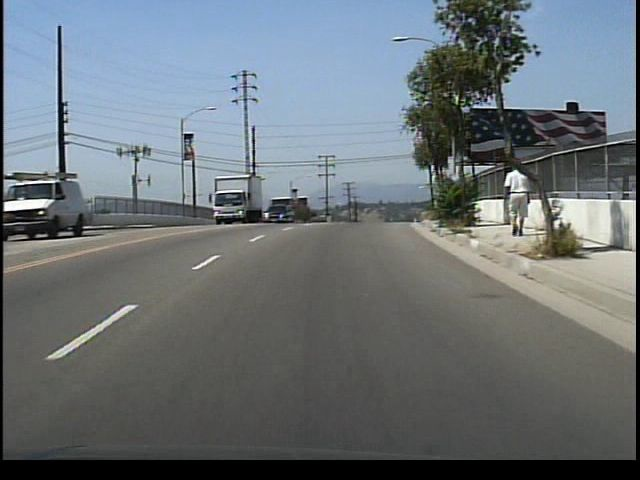person: (503, 170, 533, 240)
